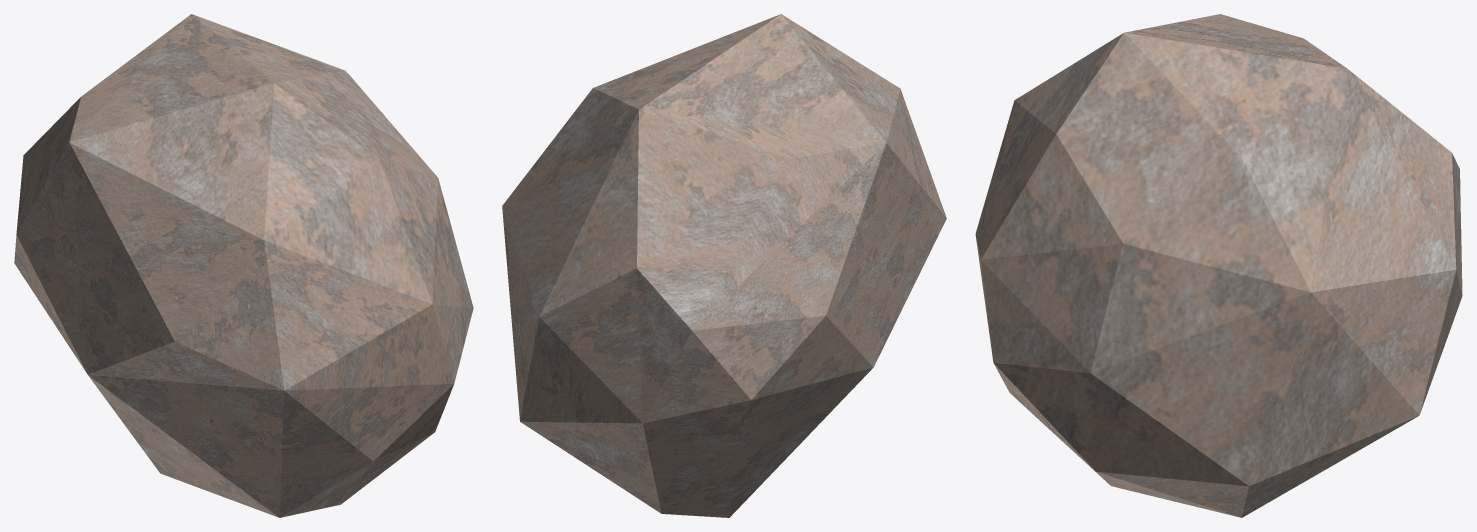
File: stone6.fbx
The picture shows the model from 3 angles, left to right: view 1: azimuth 30°, elevation 25°; view 2: azimuth 150°, elevation 25°; view 3: azimuth 270°, elevation 25°; orthographic projection.
Parts seen in each view (by area): view 1: Group41785; view 2: Group41785; view 3: Group41785.
Part boxes in pixels (box(x1,y1,x2,y2)): Group41785: box(14, 14, 473, 517); Group41785: box(502, 14, 946, 517); Group41785: box(975, 14, 1462, 517).
Bounding box in the file's own units: 157 × 191 × 193.
